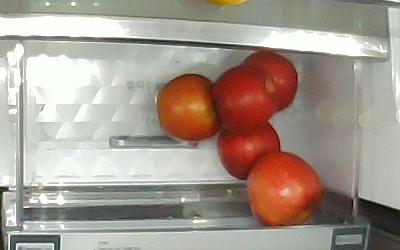apple: (248, 153, 324, 227), (157, 72, 221, 142), (214, 64, 278, 132), (217, 122, 283, 180), (242, 52, 299, 111)
